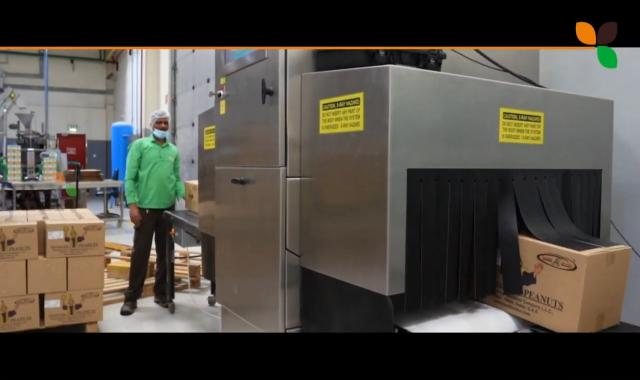hairnet: (150, 108, 171, 133)
